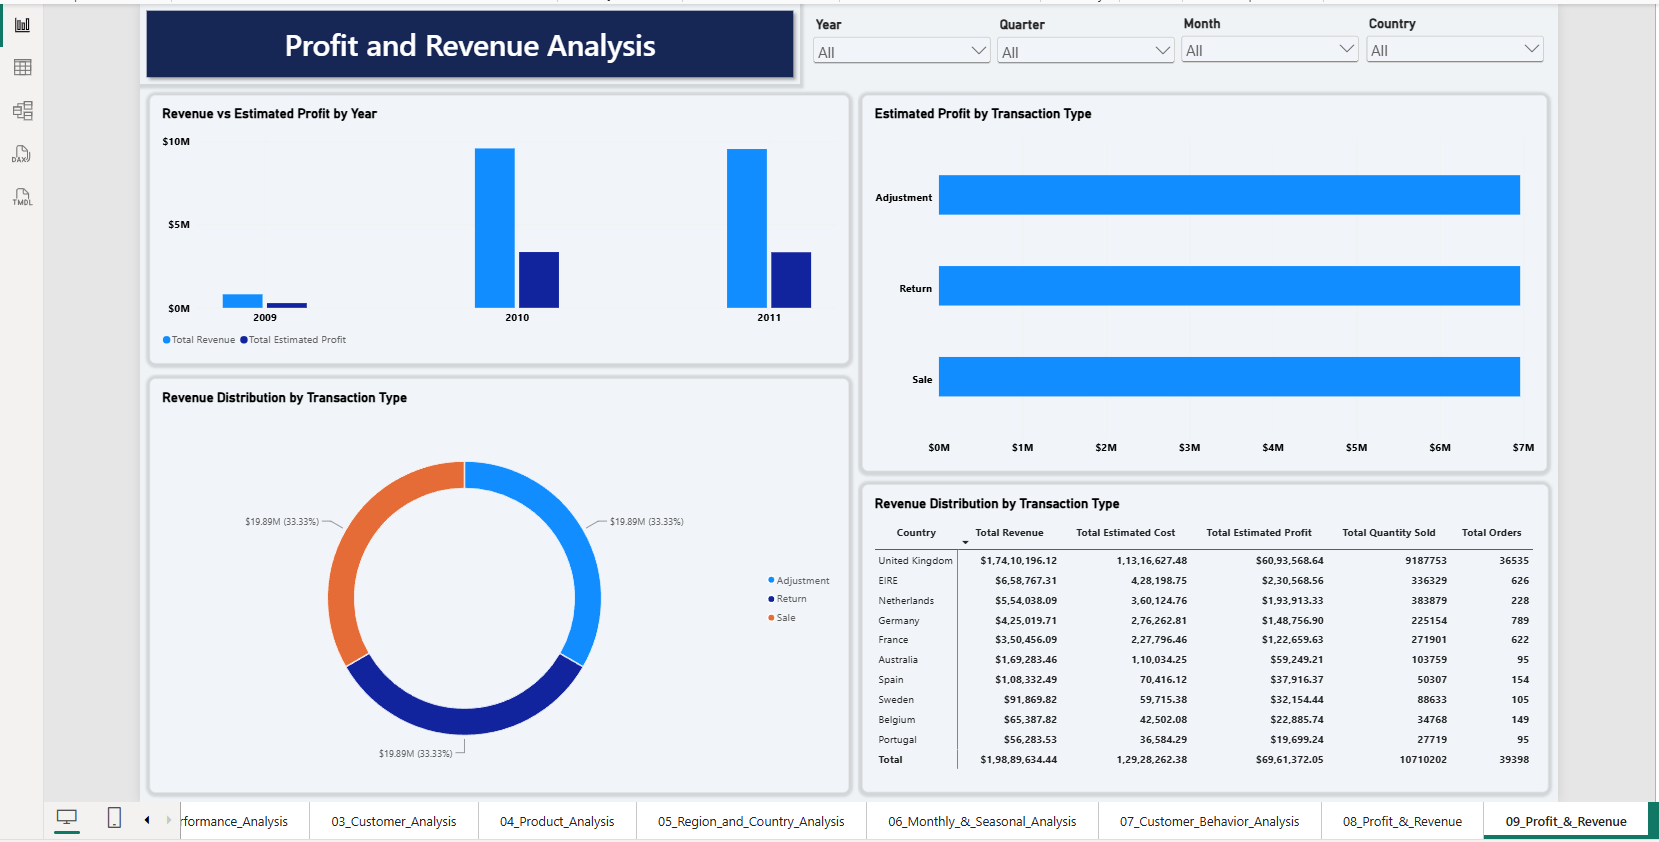

Layout of this report page (visuals, bound fields, positions):
{"tool":"powerbi","page":{"name":"09_Profit_&_Revenue","canvas":[1920,1080],"ordinal":8},"visuals":[{"type":"shape","box":[0,0,893.5,108.1],"z":0},{"type":"slicer","fields":{"Values":["Date.Quarter"]},"box":[1156.3,18,249.7,74.3],"z":1000},{"type":"slicer","fields":{"Values":["Date.Year"]},"box":[907.2,17.4,249.7,74.3],"z":2000},{"type":"slicer","fields":{"Values":["Sales.Country"]},"box":[1656.3,15.8,249.7,74.3],"z":3000},{"type":"slicer","fields":{"Values":["Date.Month"]},"box":[1405.6,16.5,249.7,74.3],"z":4000},{"type":"clusteredColumnChart","title":"Revenue vs Estimated Profit by Year","fields":{"Category":["Date.Year"],"Y":["KPI Measures.Total Revenue","KPI Measures.Total Estimated Profit"]},"box":[13.6,123.6,946.9,363.4],"z":5000},{"type":"clusteredBarChart","title":"Estimated Profit by Transaction Type","fields":{"Category":["Sales.Transaction_Type"],"Y":["KPI Measures.Total Estimated Profit"]},"box":[978.6,123.6,927.3,509.6],"z":6000},{"type":"donutChart","title":"Revenue Distribution by Transaction Type","fields":{"Category":["Sales.Transaction_Type"],"Y":["KPI Measures.Total Revenue"]},"box":[13.6,506.6,946.9,560.9],"z":7000},{"type":"pivotTable","title":"Revenue Distribution by Transaction Type","fields":{"Rows":["Sales.Country"],"Values":["KPI Measures.Total Revenue","KPI Measures.Total Estimated Cost","KPI Measures.Total Estimated Profit","KPI Measures.Total Quantity Sold","KPI Measures.Total Orders"]},"box":[977.8,650.4,928.6,417.2],"z":8000}]}

Visuals, with their boxes on the page's 1920x1080 design canvas (x1, y1, x2, y2). These are canvas units, not pixel positions in the 1659x842 screenshot, which may show the page scaled, cropped or inside an application window:
shape: crop(0, 0, 894, 108)
slicer - Date.Quarter: crop(1156, 18, 1406, 92)
slicer - Date.Year: crop(907, 17, 1157, 92)
slicer - Sales.Country: crop(1656, 16, 1906, 90)
slicer - Date.Month: crop(1406, 16, 1655, 91)
"Revenue vs Estimated Profit by Year" clusteredColumnChart: crop(14, 124, 960, 487)
"Estimated Profit by Transaction Type" clusteredBarChart: crop(979, 124, 1906, 633)
"Revenue Distribution by Transaction Type" donutChart: crop(14, 507, 960, 1068)
"Revenue Distribution by Transaction Type" pivotTable: crop(978, 650, 1906, 1068)
